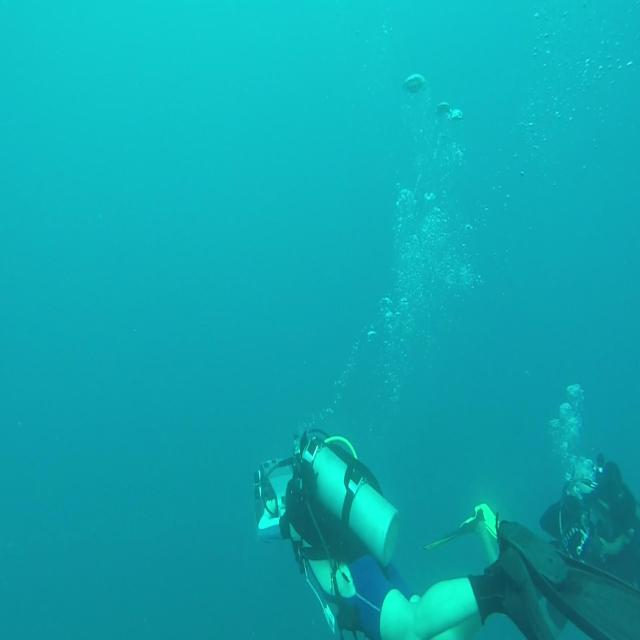human: (253, 428, 638, 638), (426, 455, 640, 603)
